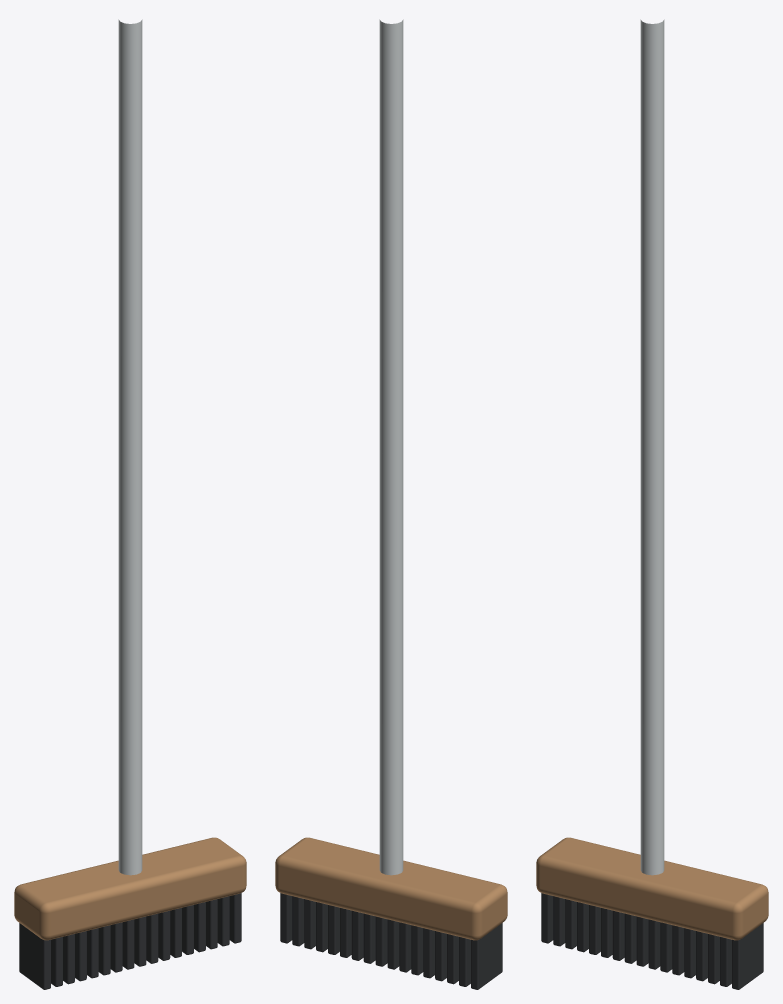
File: barbershop-and-hair-salon-broom-189429d2__29681.glb
3 renders of one model, left to right at view 1: azimuth 30°, elevation 25°; view 2: azimuth 150°, elevation 25°; view 3: azimuth 330°, elevation 25°, orthographic.
Parts seen in each view (by area): view 1: broom; view 2: broom; view 3: broom.
Boxes of the visible parts, bbox=[...] form: broom: bbox=[14, 19, 246, 989]; broom: bbox=[275, 19, 507, 989]; broom: bbox=[536, 19, 768, 989].
Size of the model in its own units: 0.26 by 1.13 by 0.07.
